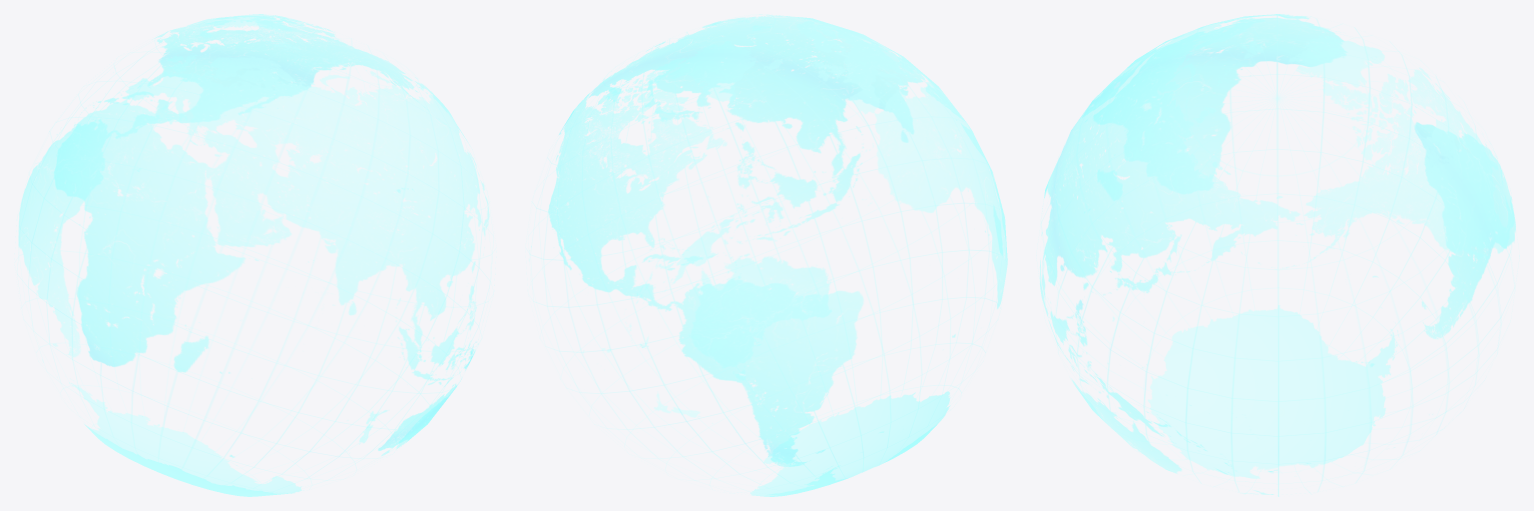
The model's file is earthhologram.glb.
The picture shows the model from 3 angles, left to right: view 1: azimuth 30°, elevation 25°; view 2: azimuth 150°, elevation 25°; view 3: azimuth 270°, elevation 25°; orthographic projection.
Parts seen in each view (by area): view 1: Hologram; view 2: Hologram; view 3: Hologram.
Boxes of the visible parts, x1,y1,x2,y2 form: Hologram: [17, 14, 492, 496]; Hologram: [529, 14, 1007, 496]; Hologram: [1039, 14, 1519, 496].
Bounding box in the file's own units: 1.31 × 1.31 × 1.31.
Materials: 1 (1 with a texture image).
